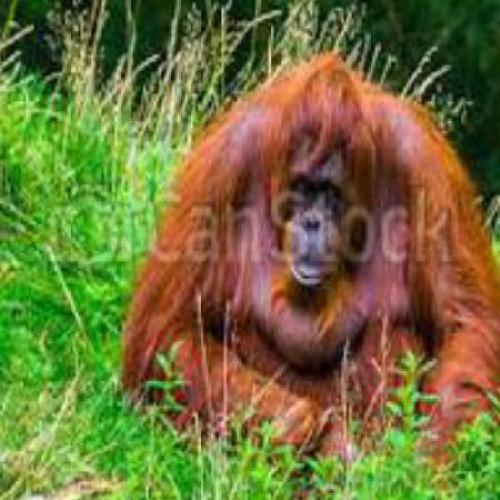orangutan-endangered: (149, 65, 489, 434)
